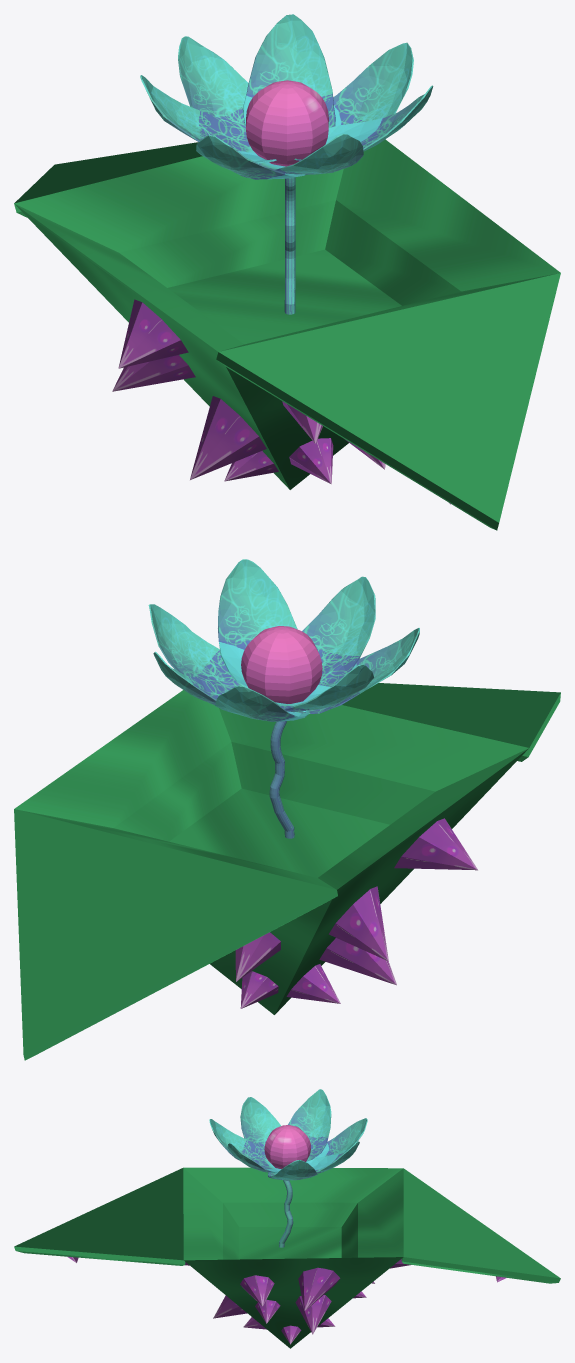
Rendered from Seed B.fbx.
3 views of the same model, one above another, from view 1: azimuth 30°, elevation 25°; view 2: azimuth 150°, elevation 25°; view 3: azimuth 270°, elevation 25° (orthographic). The views are drawn at different scales.
Visible parts, largest first — view 1: Cone; view 2: Cone; view 3: Cone.
Boxes of the visible parts, x1,y1,x2,y2 form: Cone: (14, 14, 560, 530); Cone: (14, 559, 560, 1060); Cone: (14, 1089, 560, 1348).
Size of the model in its own units: 156 by 167 by 363.
